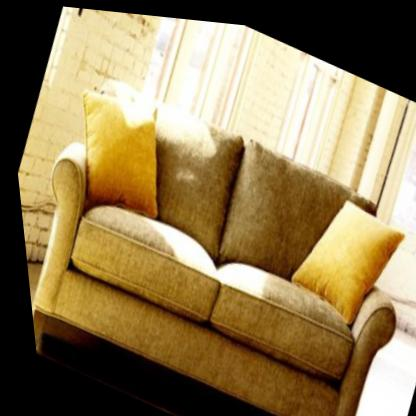Sofa: (4, 49, 416, 416)
